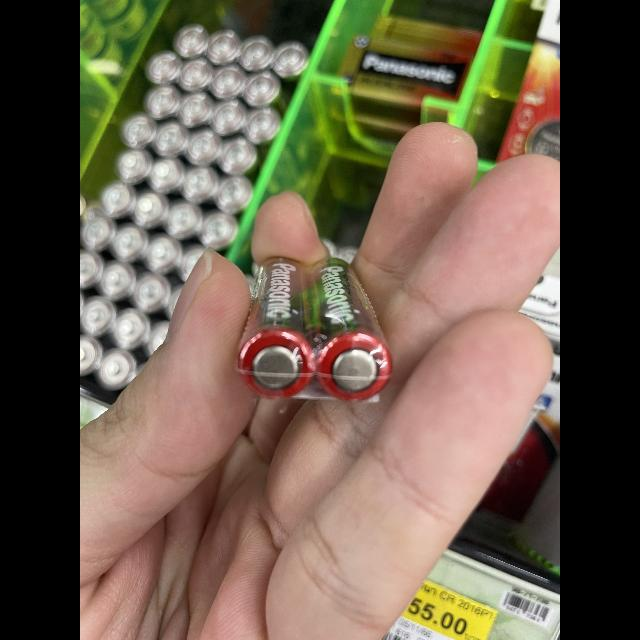battery: (301, 240, 399, 408), (232, 237, 312, 406)
